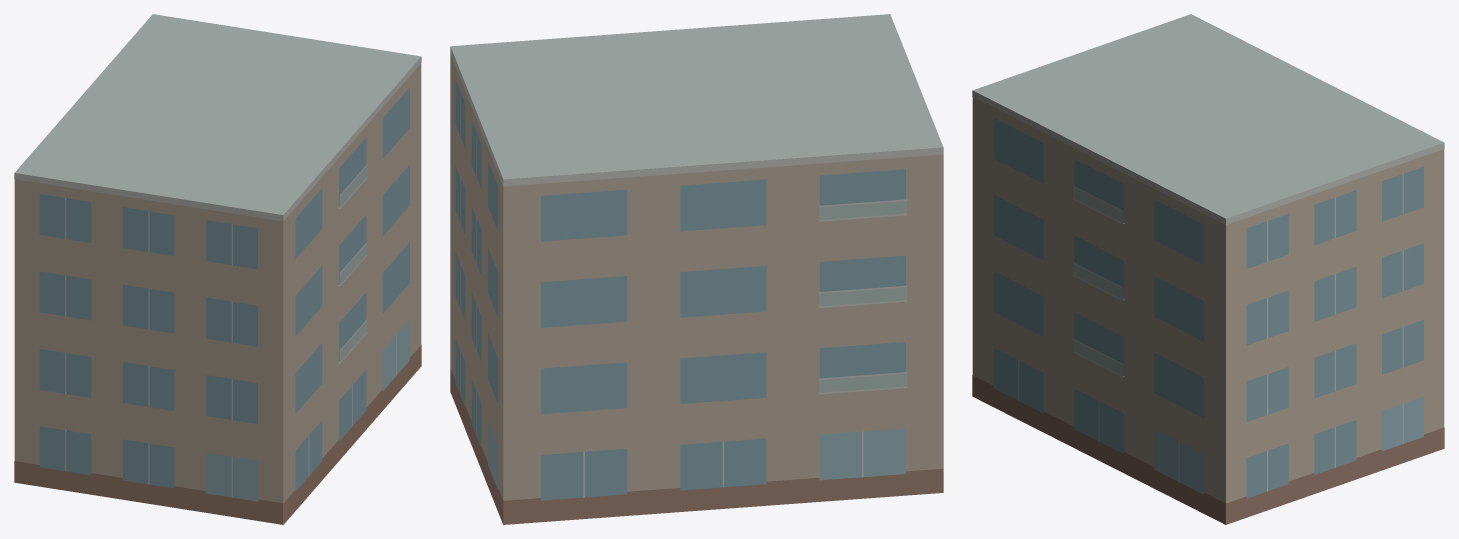
Rendered from survey-upis-32535306.glb.
3 renders of one model, left to right at view 1: azimuth 30°, elevation 25°; view 2: azimuth 150°, elevation 25°; view 3: azimuth 270°, elevation 25°, orthographic. The views are drawn at different scales.
Parts seen in each view (by area): view 1: survey-upis-32535306.tmp; view 2: survey-upis-32535306.tmp; view 3: survey-upis-32535306.tmp.
Part boxes in pixels (<box>): survey-upis-32535306.tmp: <box>14,14,421,524</box>; survey-upis-32535306.tmp: <box>450,14,943,524</box>; survey-upis-32535306.tmp: <box>972,14,1444,524</box>.
Size of the model in its own units: 17.08 by 11.9 by 16.63.
